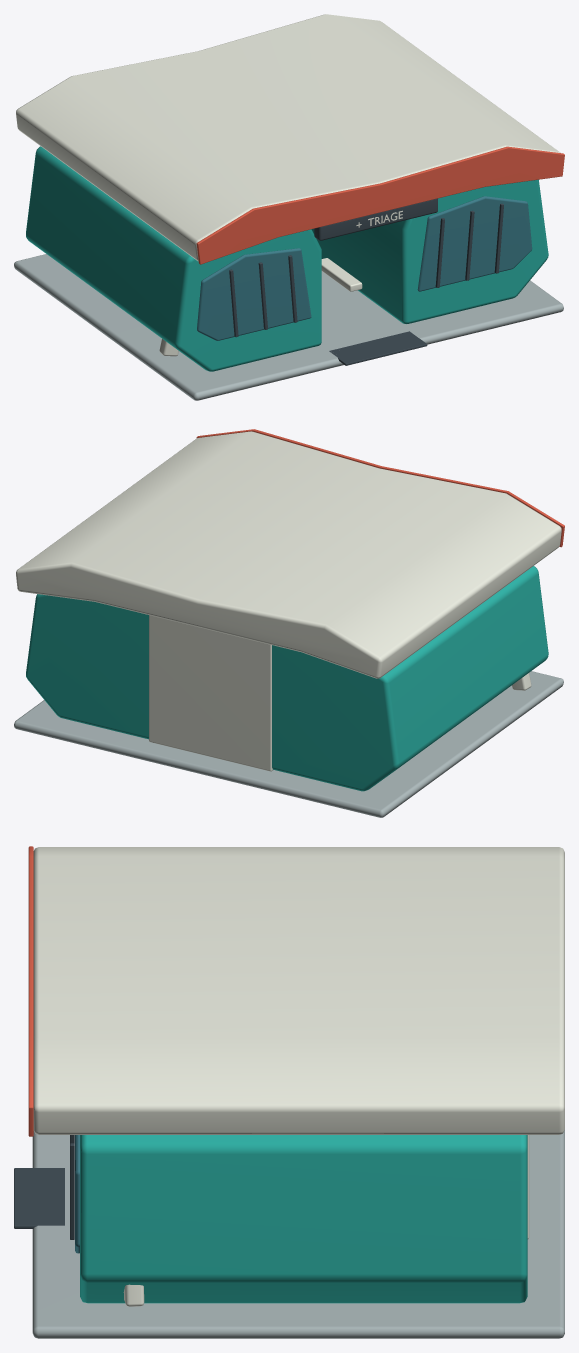
The model's file is aster_clinic.glb.
3 renders of one model, top to bottom at view 1: azimuth 30°, elevation 25°; view 2: azimuth 150°, elevation 25°; view 3: azimuth 270°, elevation 25°, orthographic. The views are drawn at different scales.
Parts seen in each view (by area): view 1: aster_clinic; view 2: aster_clinic; view 3: aster_clinic.
Boxes of the visible parts, box(x1,y1,x2,y2) form: aster_clinic: box(14, 14, 564, 400); aster_clinic: box(14, 429, 564, 817); aster_clinic: box(14, 846, 564, 1338).
Bounding box in the file's own units: 13.92 × 6.42 × 12.22.
